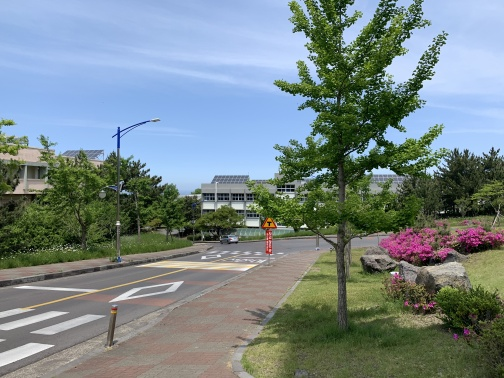College Of Education: (1, 139, 110, 203)
